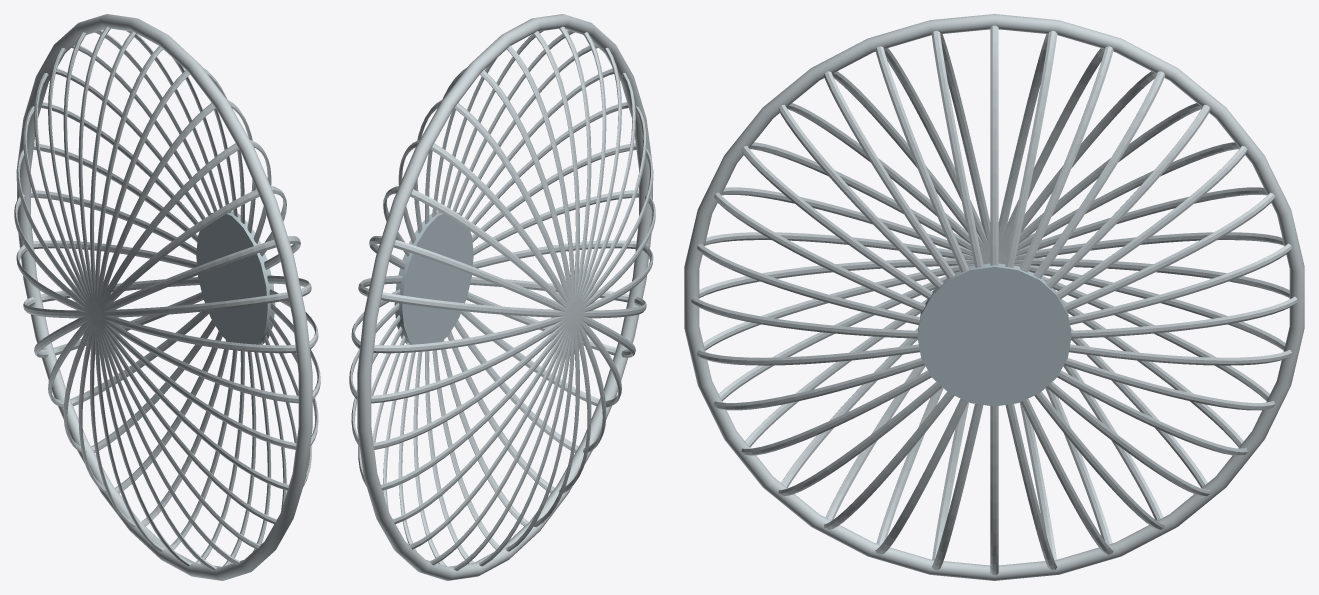
File: hone.fbx
3 views of the same model, side by side, from view 1: azimuth 30°, elevation 25°; view 2: azimuth 150°, elevation 25°; view 3: azimuth 270°, elevation 25° (orthographic). The views are drawn at different scales.
Parts seen in each view (by area): view 1: pTorus1, pCylinder2, pCube22, pCube21, pCube23, pCube20, pCube8, pCube9, pCube19, pCube18, pCube10, pCube17 (+6 smaller); view 2: pTorus1, pCylinder2, pCube10, pCube11, pCube9, pCube12, pCube8, pCube23, pCube14, pCube13, pCube22, pCube15 (+6 smaller); view 3: pTorus1, pCylinder2, pCube16, pCube17, pCube15, pCube14, pCube18, pCube13, pCube19, pCube12, pCube20, pCube9 (+6 smaller).
Boxes of the visible parts, x1,y1,x2,y2 form: pTorus1: (17,14,312,580); pCylinder2: (196,211,275,344); pCube22: (78,26,256,570); pCube21: (63,30,271,565); pCube23: (90,31,244,566); pCube20: (48,44,286,549); pCube8: (94,45,237,551); pCube9: (90,67,244,527); pCube19: (34,68,297,524); pCube18: (23,102,311,490); pCube10: (78,99,256,493); pCube17: (16,143,318,449); pTorus1: (357,14,652,580); pCylinder2: (394,211,473,344); pCube10: (413,26,591,570); pCube11: (398,30,606,565); pCube9: (425,31,579,566); pCube12: (383,44,621,549); pCube8: (432,45,575,551); pCube23: (425,67,579,527); pCube14: (358,102,646,490); pCube13: (372,68,635,524); pCube22: (413,99,591,493); pCube15: (351,143,653,449); pTorus1: (684,14,1304,580); pCylinder2: (917,263,1071,406); pCube16: (691,258,1297,338); pCube17: (697,232,1291,365); pCube15: (697,232,1291,365); pCube14: (714,187,1275,410); pCube18: (713,187,1274,410); pCube13: (741,142,1247,455); pCube19: (741,142,1247,455); pCube12: (778,103,1210,496); pCube20: (778,103,1210,496); pCube9: (931,31,1057,570).
Bounding box in the file's own units: 4.13 × 14.4 × 14.32.
